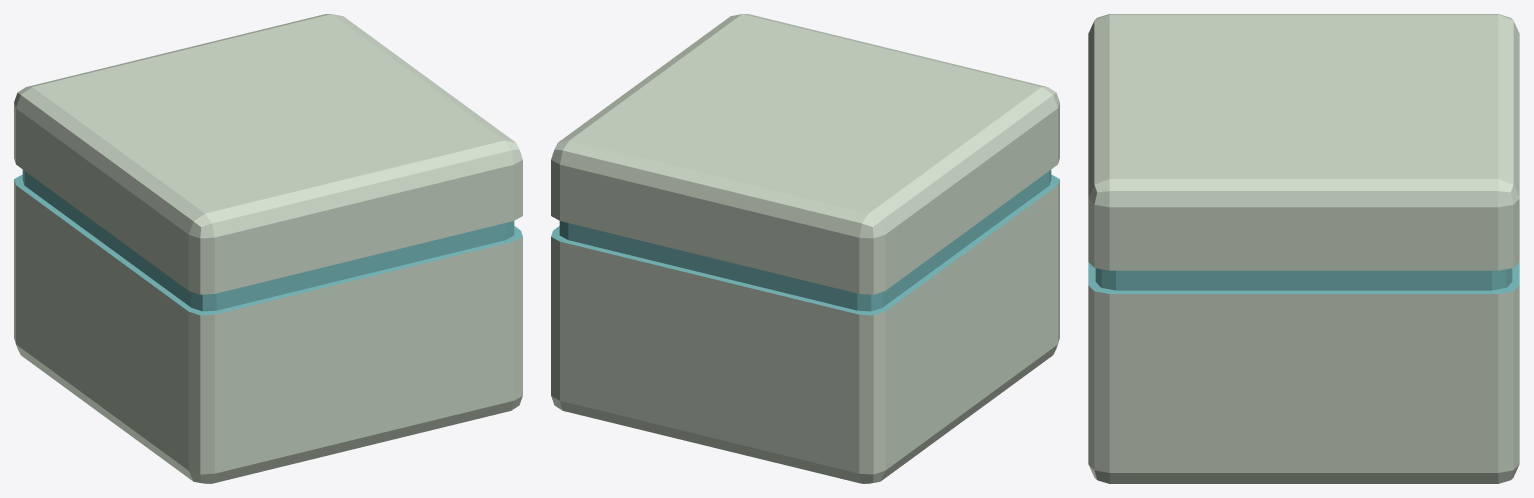
Rendered from SK_P_Crate_01.fbx.
The picture shows the model from 3 angles, left to right: view 1: azimuth 30°, elevation 25°; view 2: azimuth 150°, elevation 25°; view 3: azimuth 270°, elevation 25°; orthographic projection. The views are drawn at different scales.
Parts seen in each view (by area): view 1: Crate_01; view 2: Crate_01; view 3: Crate_01.
Boxes of the visible parts, x1,y1,x2,y2 form: Crate_01: [14, 14, 522, 483]; Crate_01: [551, 14, 1059, 483]; Crate_01: [1088, 14, 1519, 483].
Size of the model in its own units: 94.22 by 94.22 by 73.29.
